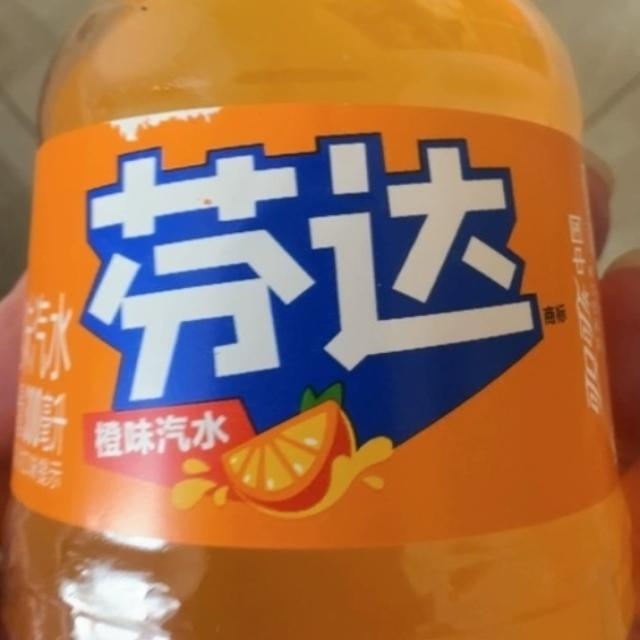orange: (81, 122, 545, 508)
